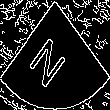N_NE: (32, 23, 78, 87)
